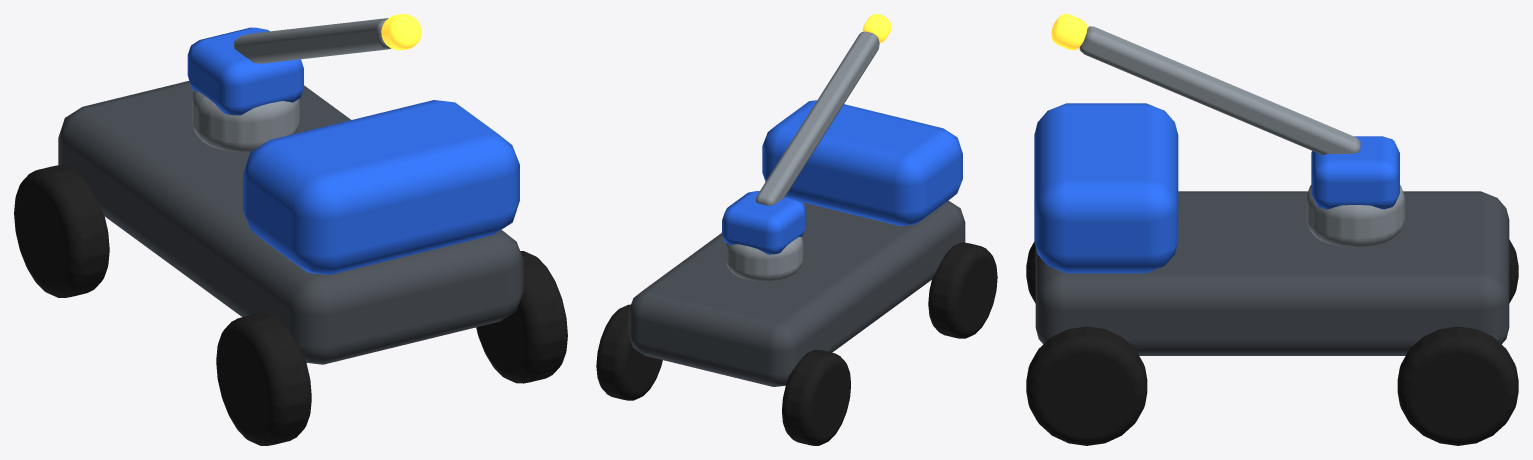
The model's file is repair_truck.glb.
3 renders of one model, left to right at view 1: azimuth 30°, elevation 25°; view 2: azimuth 150°, elevation 25°; view 3: azimuth 270°, elevation 25°, orthographic. The views are drawn at different scales.
Parts seen in each view (by area): view 1: repair_truck__M_SmokePlastic, repair_truck__M_Team, repair_truck__M_Licorice, turret__M_Team, barrel__M_SpringSteel, turret__M_SpringSteel, barrel__M_E_Amber; view 2: repair_truck__M_SmokePlastic, repair_truck__M_Team, repair_truck__M_Licorice, barrel__M_SpringSteel, turret__M_Team, turret__M_SpringSteel, barrel__M_E_Amber; view 3: repair_truck__M_SmokePlastic, repair_truck__M_Licorice, repair_truck__M_Team, barrel__M_SpringSteel, turret__M_Team, turret__M_SpringSteel, barrel__M_E_Amber.
Boxes of the visible parts, x1,y1,x2,y2 form: repair_truck__M_SmokePlastic: [58, 81, 523, 364]; repair_truck__M_Team: [243, 100, 519, 274]; repair_truck__M_Licorice: [14, 165, 567, 445]; turret__M_Team: [187, 27, 303, 115]; barrel__M_SpringSteel: [234, 18, 390, 63]; turret__M_SpringSteel: [192, 91, 299, 152]; barrel__M_E_Amber: [381, 14, 421, 50]; repair_truck__M_SmokePlastic: [628, 200, 965, 386]; repair_truck__M_Team: [762, 100, 962, 226]; repair_truck__M_Licorice: [596, 242, 997, 445]; barrel__M_SpringSteel: [755, 31, 879, 205]; turret__M_Team: [722, 191, 806, 254]; turret__M_SpringSteel: [725, 237, 803, 281]; barrel__M_E_Amber: [862, 14, 891, 43]; repair_truck__M_SmokePlastic: [1035, 191, 1509, 355]; repair_truck__M_Licorice: [1026, 239, 1518, 445]; repair_truck__M_Team: [1034, 103, 1178, 273]; barrel__M_SpringSteel: [1079, 26, 1360, 154]; turret__M_Team: [1311, 136, 1399, 209]; turret__M_SpringSteel: [1306, 185, 1404, 247]; barrel__M_E_Amber: [1051, 14, 1087, 50].
Bounding box in the file's own units: 0.57 × 0.7337 × 0.8887.
